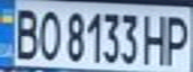1: (81, 8, 106, 63)
3: (118, 10, 142, 65), (103, 8, 121, 64)
8: (60, 7, 87, 63)
B: (6, 3, 42, 61)
H: (139, 11, 172, 66)
O: (33, 6, 63, 62)
P: (160, 11, 193, 66)
